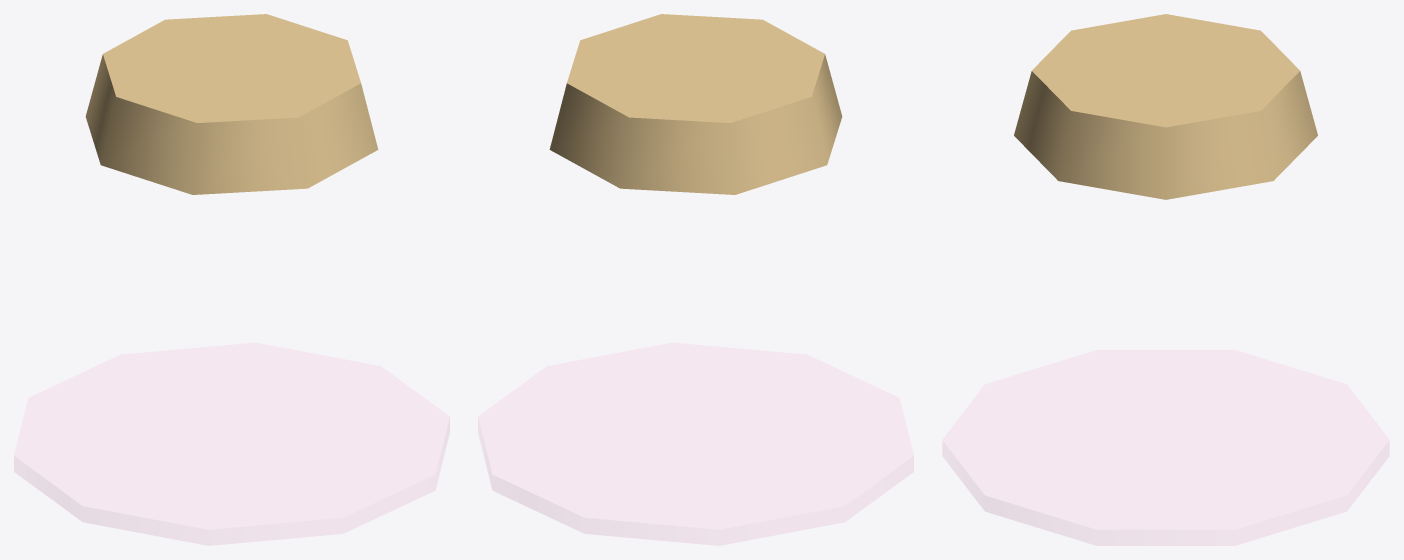
Rendered from borek.glb.
3 views of the same model, side by side, from view 1: azimuth 30°, elevation 25°; view 2: azimuth 150°, elevation 25°; view 3: azimuth 270°, elevation 25° (orthographic).
Bounding box in the file's own units: 0.9511 × 0.95 × 1.
